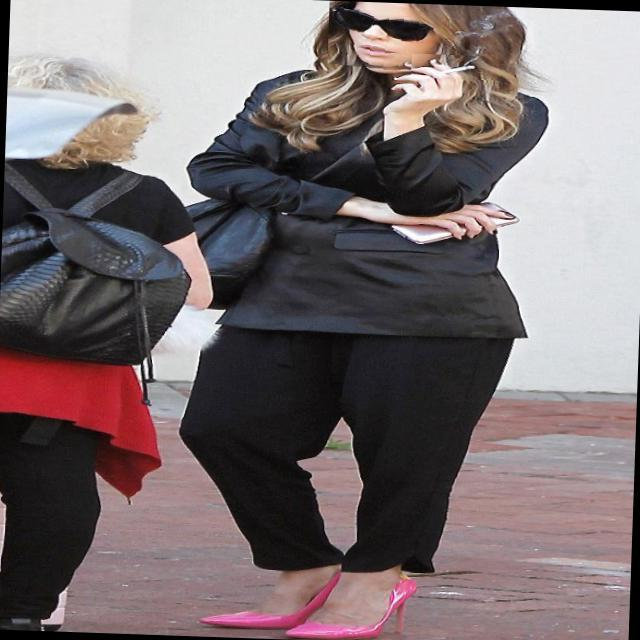cigarette: (412, 54, 504, 80)
